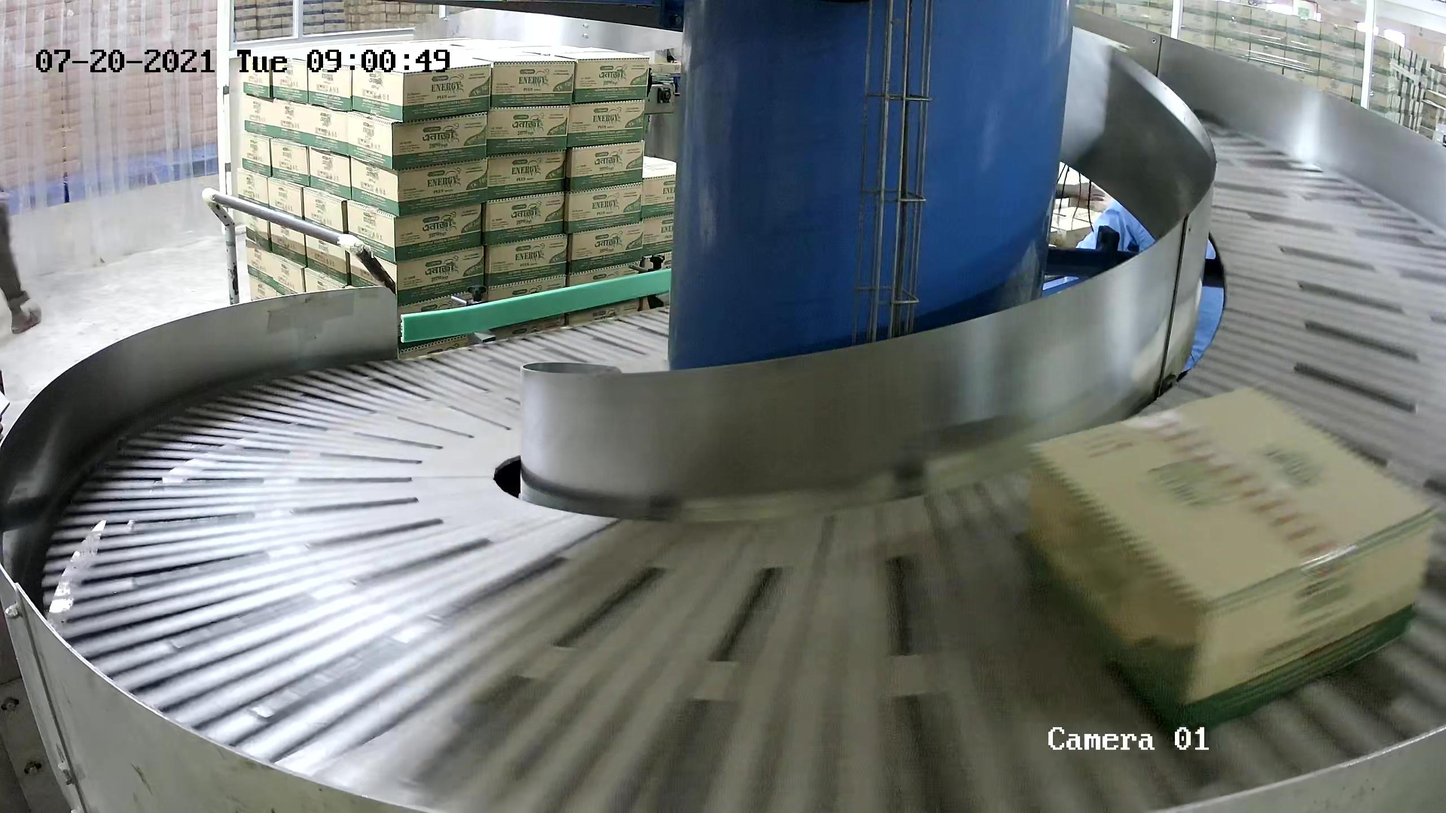Box: (1019, 381, 1446, 741)
